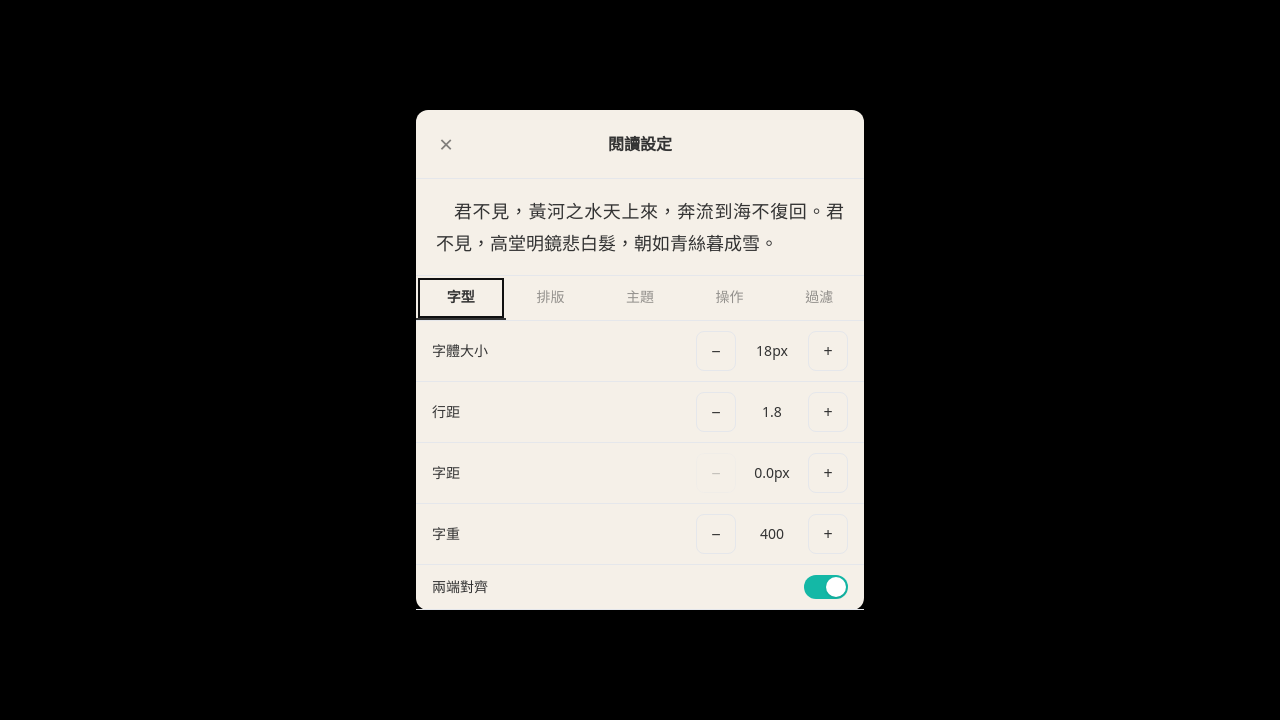
Scenario: ReaderSettingsPanel › switches to 主題 tab and exposes theme presets
The image size is (1280, 720).
Click the tab with test id "settings-tab-theme". click: (640, 298)
box: [595,276,685,320]
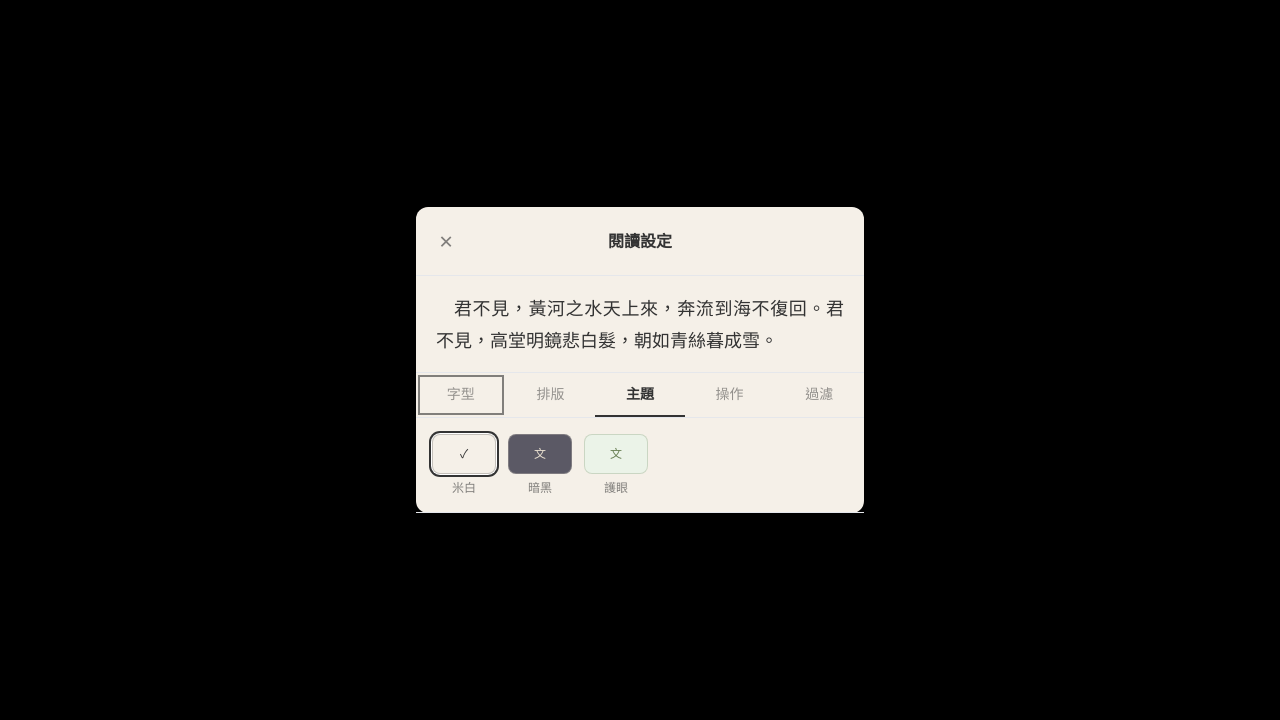
Expected: the text "米白" is shown, [452,480,476,496]
Expected: the text "暗黑" is shown, [528,480,552,496]
Expected: the text "護眼" is shown, [604,480,628,496]
